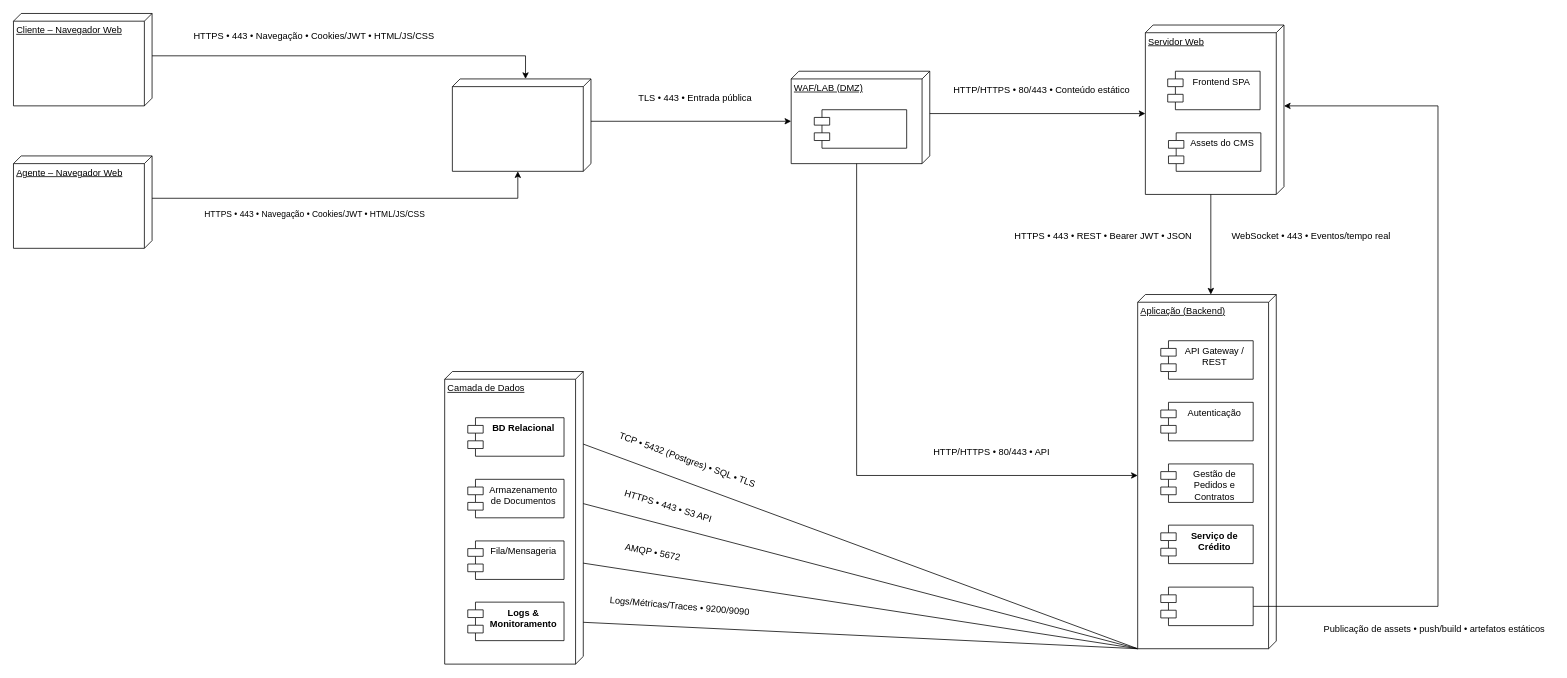
Some shapes in this 1567 by 678 pixel diagram are drawn without their labels. The shapes that lost their labels are listed below. From the top down, each one's centre as x and y in pixels, then its label:
[521,124]: Internet (TLS/HTTPS)
[860,128]: WAF/Reverse-Proxy/LB
[1206,606]: CMS
